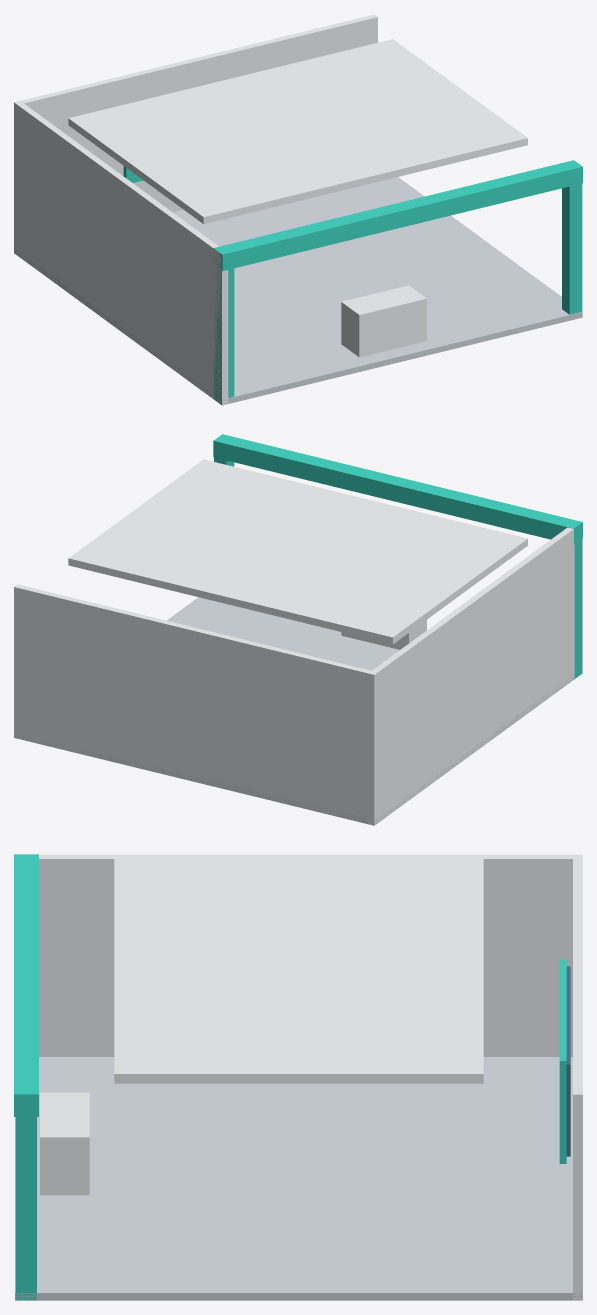
The picture shows the model from 3 angles, top to bottom: view 1: azimuth 30°, elevation 25°; view 2: azimuth 150°, elevation 25°; view 3: azimuth 270°, elevation 25°; orthographic projection. The views are drawn at different scales.
Visible parts, largest first — view 1: Exhibition Booth Concept; view 2: Exhibition Booth Concept; view 3: Exhibition Booth Concept.
Boxes of the visible parts, x1,y1,x2,y2 form: Exhibition Booth Concept: [14, 14, 582, 405]; Exhibition Booth Concept: [14, 434, 582, 825]; Exhibition Booth Concept: [14, 854, 582, 1300].
Size of the model in its own units: 8 by 3.34 by 8.01.
